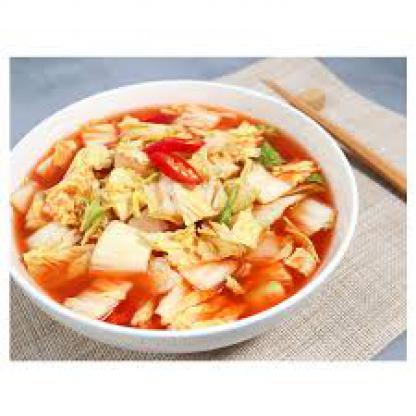nabak Kimchi: (17, 102, 329, 333)
